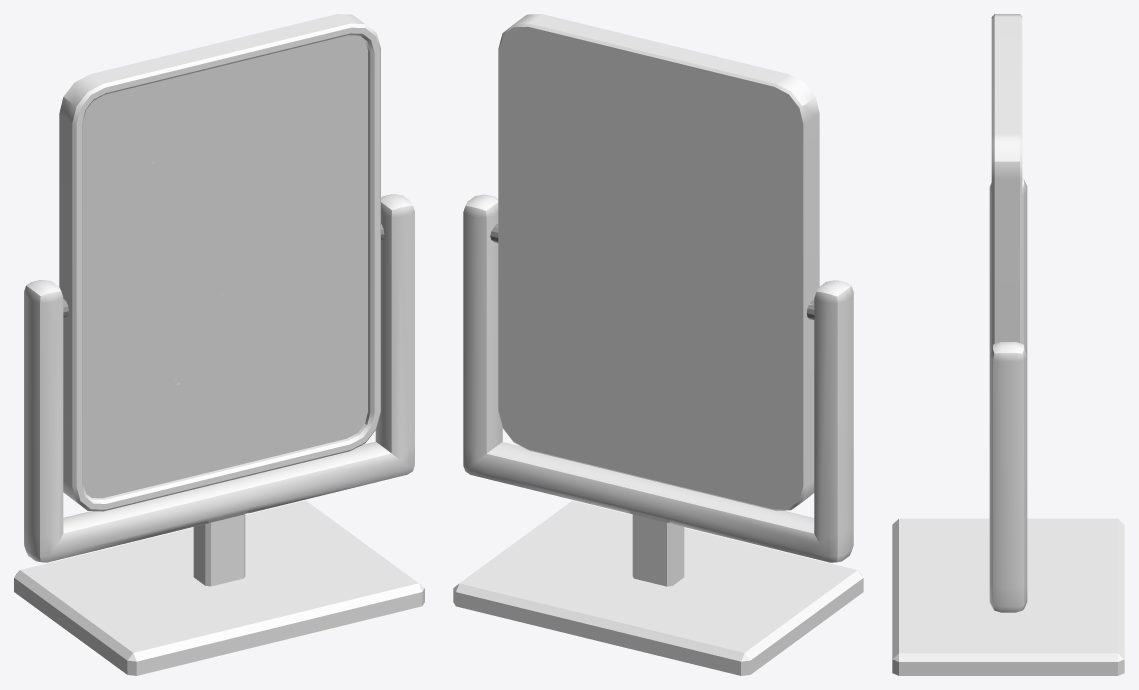
Rendered from miror_2.fbx.
3 renders of one model, left to right at view 1: azimuth 30°, elevation 25°; view 2: azimuth 150°, elevation 25°; view 3: azimuth 270°, elevation 25°, orthographic. The views are drawn at different scales.
Visible parts, largest first — view 1: pCylinder4; view 2: pCylinder4; view 3: pCylinder4.
Part boxes in pixels (bbox=[...]): pCylinder4: bbox=[14, 14, 424, 675]; pCylinder4: bbox=[453, 14, 863, 675]; pCylinder4: bbox=[892, 14, 1124, 675].
Size of the model in its own units: 17.77 by 24.45 by 9.7.
1 material, 1 textured.
